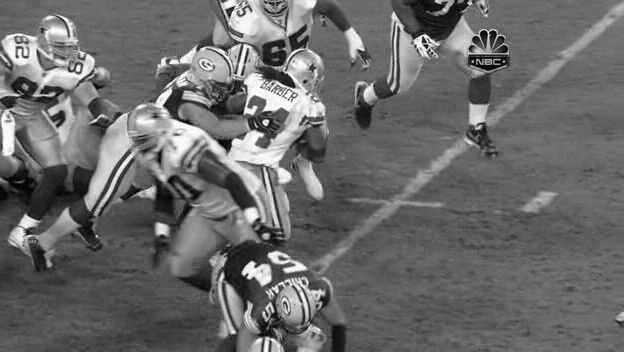person: (291, 49, 325, 92), (290, 49, 324, 92), (292, 49, 326, 92), (291, 48, 325, 91), (291, 50, 325, 93)
target_negative: (19, 11, 600, 83), (58, 230, 481, 304), (74, 250, 390, 346), (287, 150, 601, 242), (306, 92, 535, 181), (569, 3, 570, 140)
